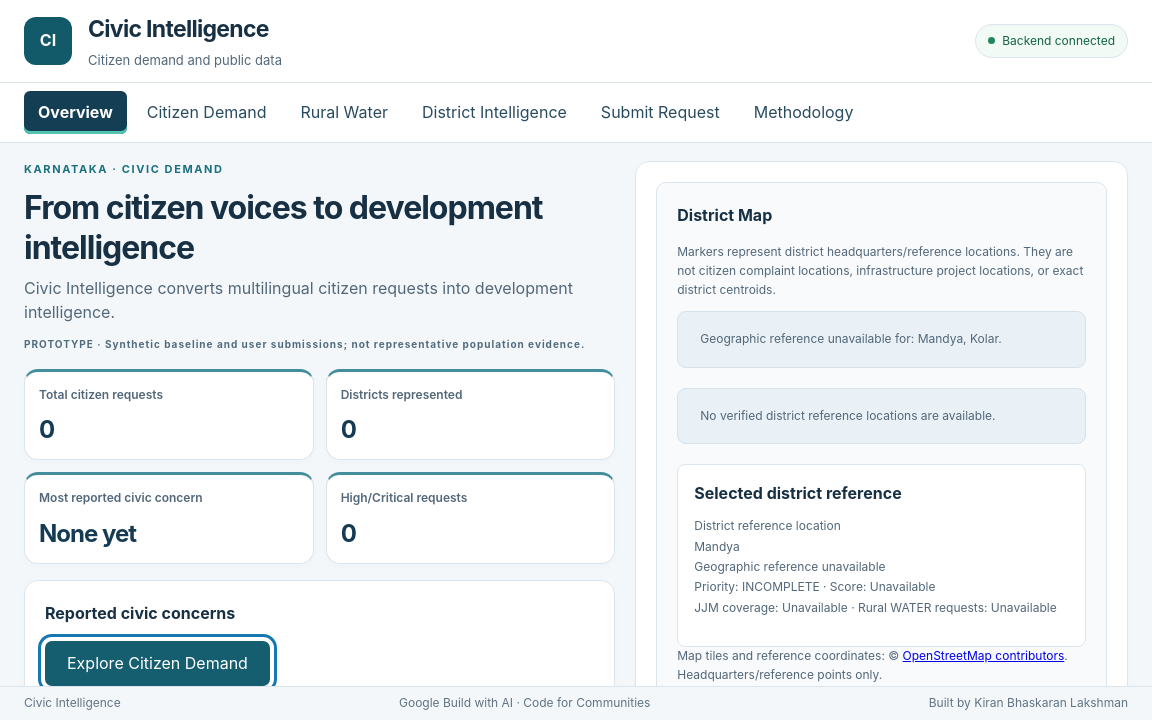
Test: Overview action reuses primary action styling and opens Citizen Demand
Expected: the heading "From citizen voices to development intelligence" is shown, left=24, top=188, right=615, bottom=268
Click the button "Explore Citizen Demand". click: (157, 664)
box: left=45, top=641, right=270, bottom=686
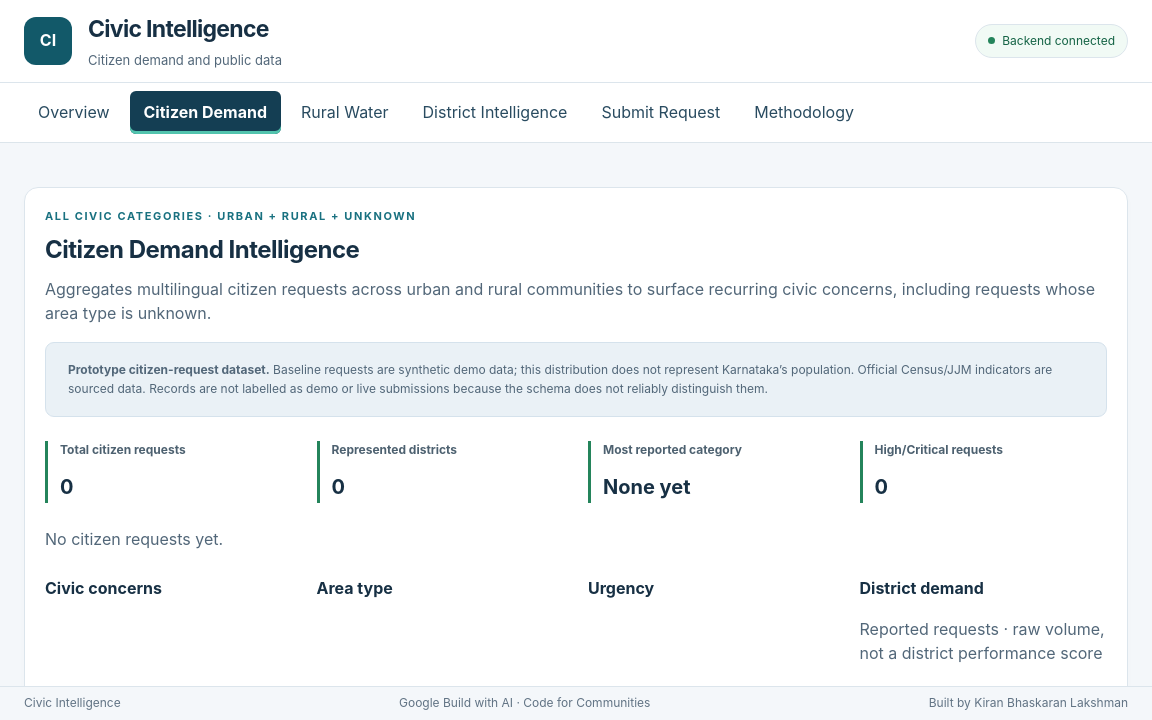
Expected: the heading "Citizen Demand Intelligence" is shown, left=45, top=235, right=359, bottom=264
